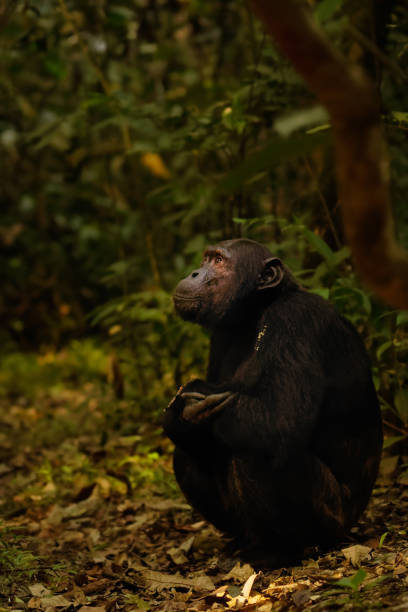chimpanzee: (143, 219, 300, 344)
